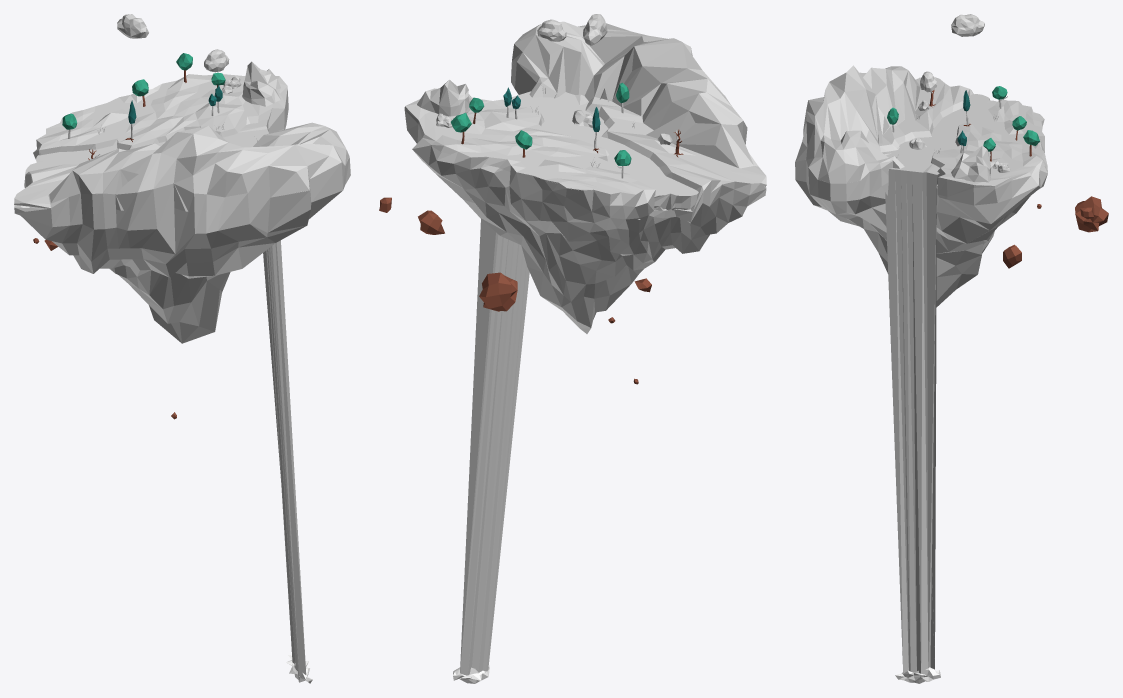
Rendered from tutorial-wind.dae.
The picture shows the model from 3 angles, left to right: view 1: azimuth 30°, elevation 25°; view 2: azimuth 150°, elevation 25°; view 3: azimuth 270°, elevation 25°; orthographic projection. The views are drawn at different scales.
Visible parts, largest first — view 1: Plateform, Plateform.1, Eau, Rocher_1, Cloud_1; view 2: Plateform, Eau, Plateform.1, Rocher_1, falling-rock5; view 3: Eau, Plateform, Plateform.1, Rocher_1, falling-rock5, Cloud_1.
Part boxes in pixels (x1,y1,x2,y2): Plateform: [14, 89, 350, 343]; Plateform.1: [14, 74, 349, 211]; Eau: [25, 119, 306, 676]; Rocher_1: [242, 61, 280, 106]; Cloud_1: [117, 14, 148, 38]; Plateform: [404, 21, 766, 333]; Eau: [460, 91, 698, 675]; Plateform.1: [404, 61, 766, 198]; Rocher_1: [417, 79, 471, 116]; falling-rock5: [479, 272, 517, 311]; Eau: [882, 94, 996, 677]; Plateform: [795, 65, 1047, 307]; Plateform.1: [795, 77, 1045, 189]; Rocher_1: [951, 145, 991, 182]; falling-rock5: [1075, 196, 1108, 232]; Cloud_1: [951, 14, 984, 36].
Size of the model in its own units: 2270 by 4862 by 2277.
